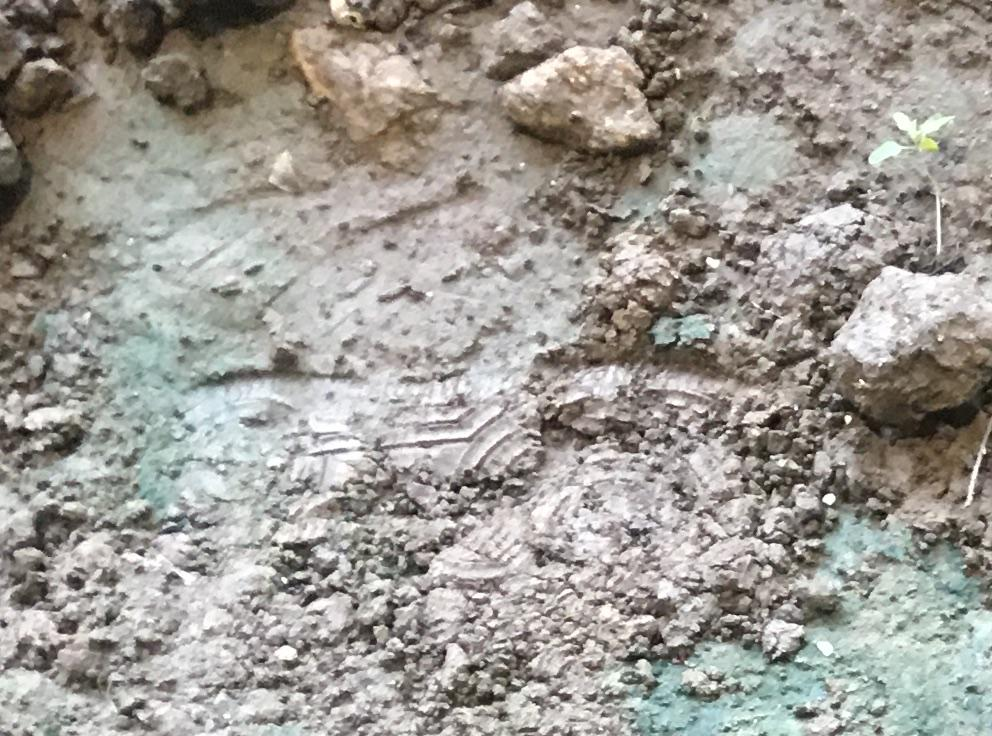block: (828, 258, 992, 438), (497, 43, 669, 157)
